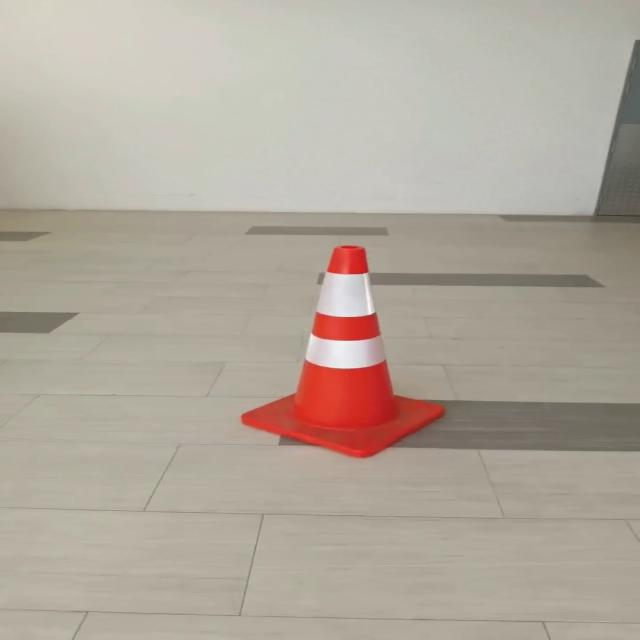cone: (226, 242, 453, 462)
